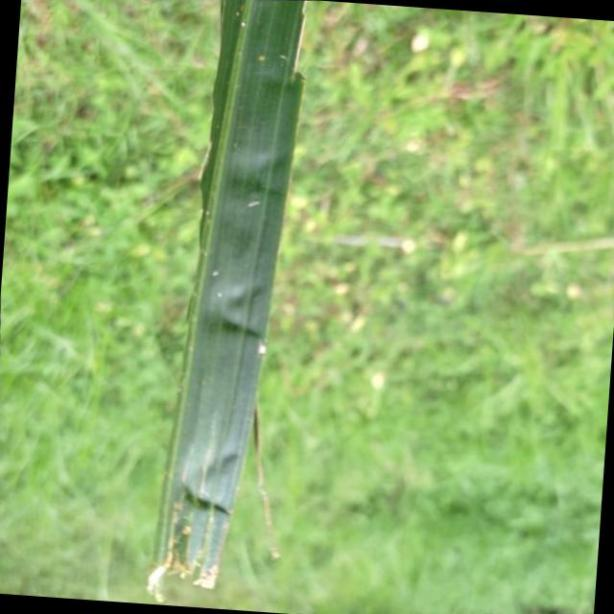Boron: (149, 0, 305, 614)
